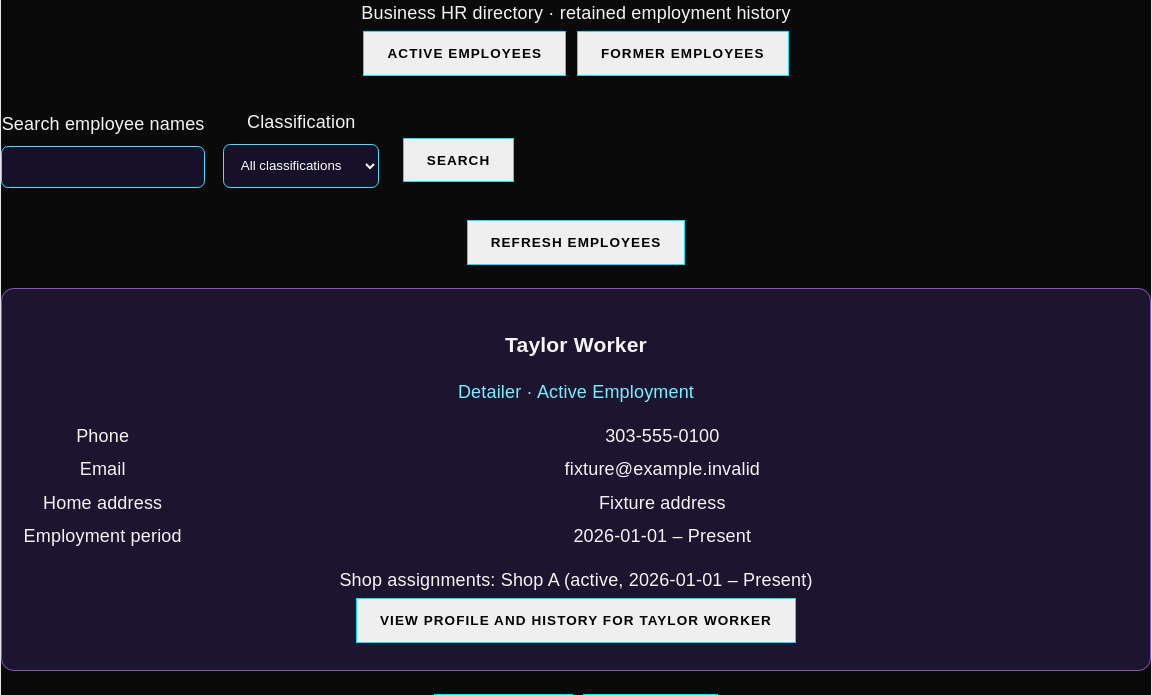
profile and timeline keep stable employee identity separate from rehire period IDs
The width and height of the screenshot is (1152, 695).
Click the button "View profile and history for Taylor Worker" at (576, 621), box [356,598,796,643]
(page scrolled)
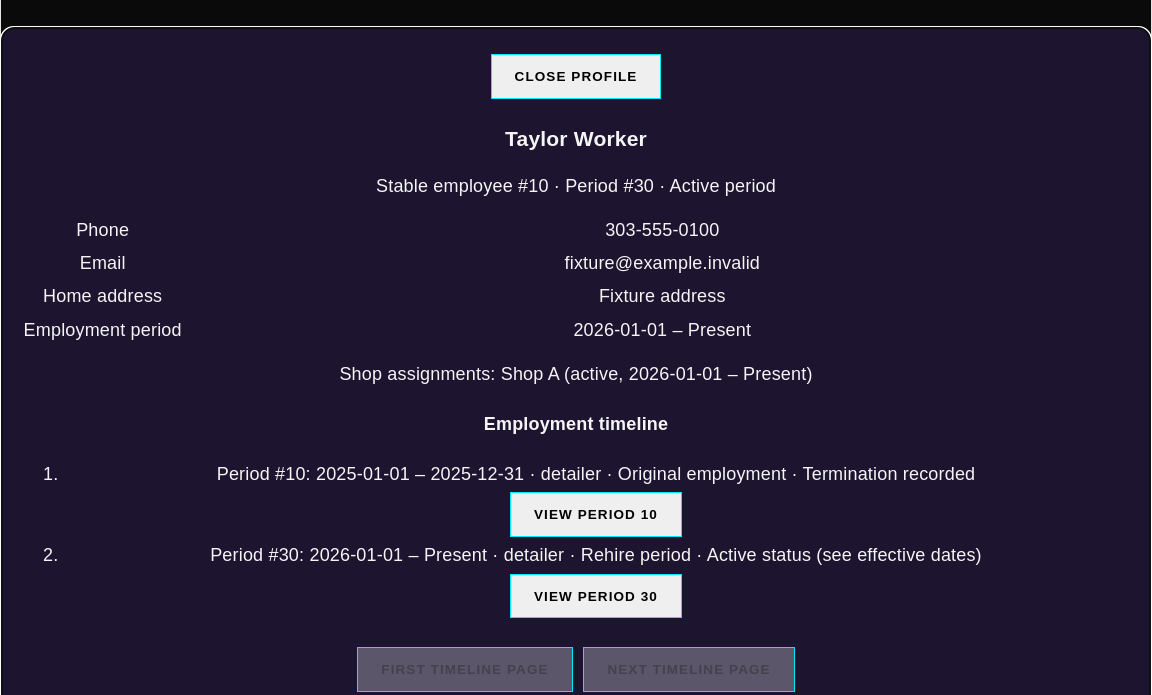
Expected: the heading "Employment timeline" is shown, [484,414,668,434]
Expected: the text "Original employment" is shown, [618,464,786,484]
Expected: the text "Rehire period" is shown, [581,545,691,565]
Click the button "View period 10" at (596, 515), box [510,492,682,537]
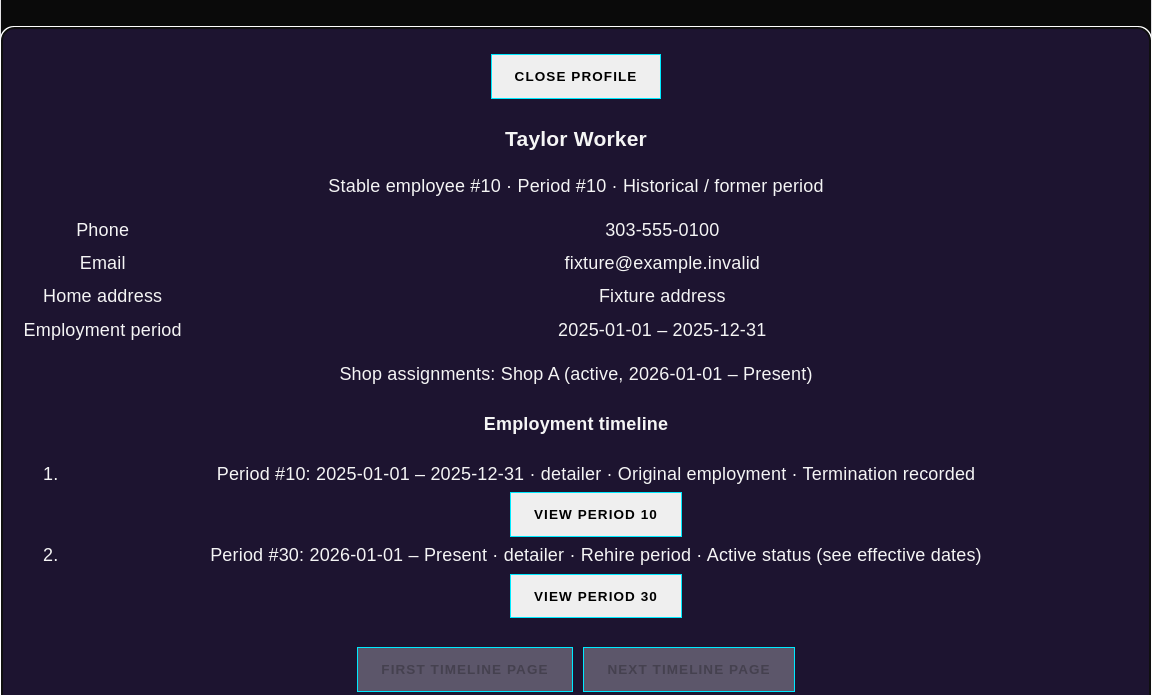
Expected: the text "Historical / former period" is shown, [623,176,824,196]
